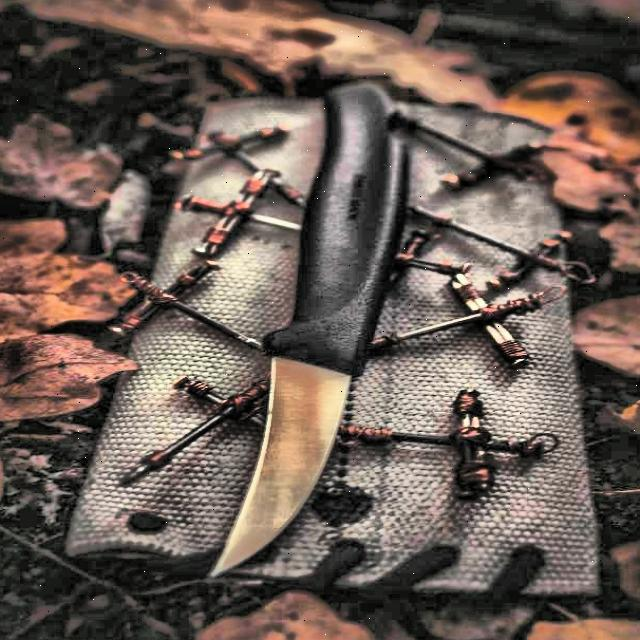knife: (203, 82, 419, 583)
